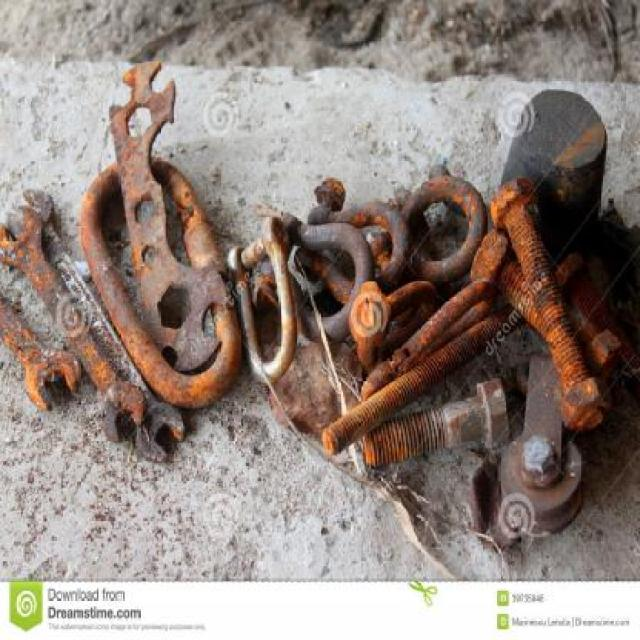corrosion: (3, 54, 640, 534)
